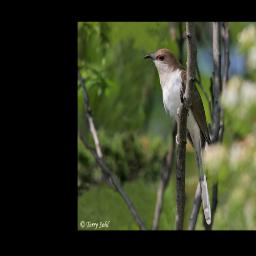Cuckoo: (142, 46, 212, 226)
